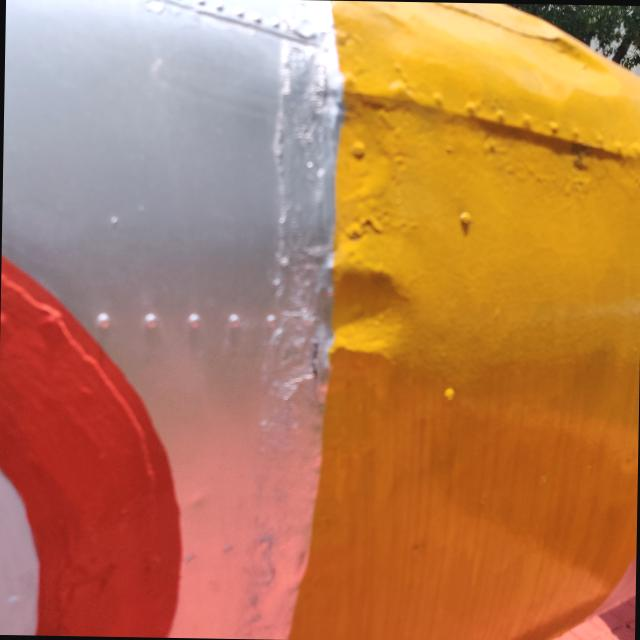dent: (276, 235, 434, 388)
